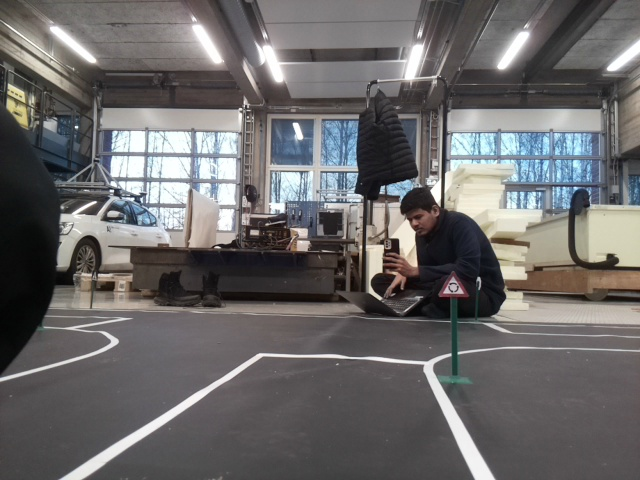Roundabout: (434, 270, 469, 296)
